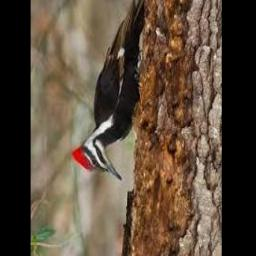Woodpecker: (72, 0, 146, 180)
